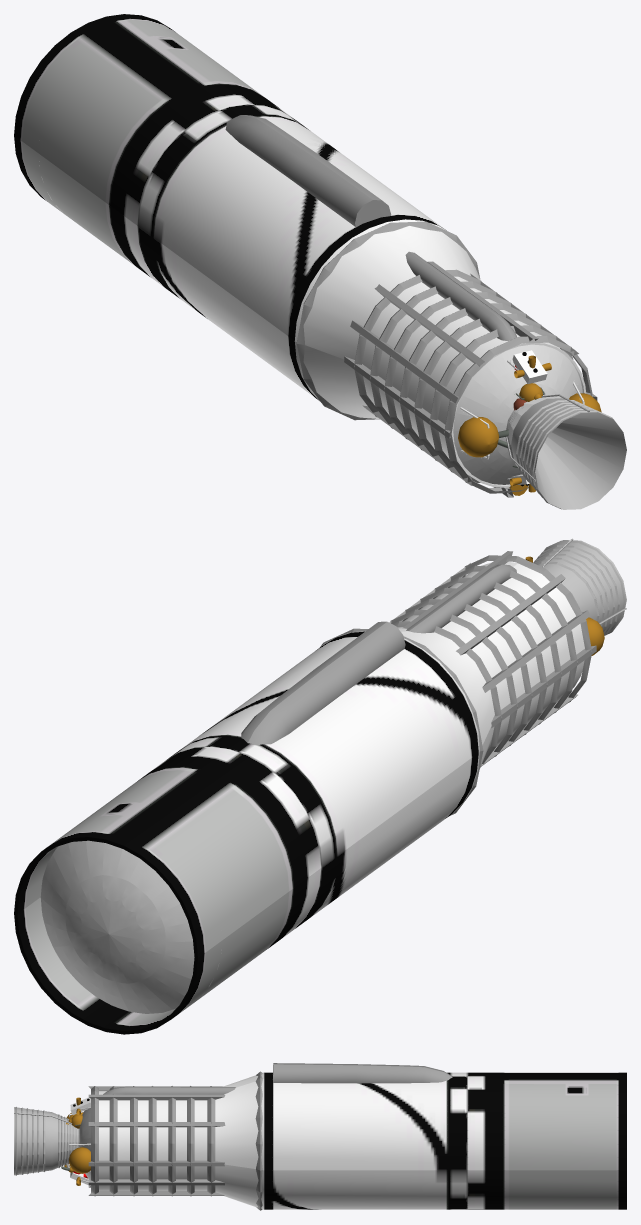
The model's file is cvelagena.obj.
3 renders of one model, top to bottom at view 1: azimuth 30°, elevation 25°; view 2: azimuth 150°, elevation 25°; view 3: azimuth 270°, elevation 25°, orthographic. The views are drawn at different scales.
Visible parts, largest first — view 1: group70, group72, group69, group10, group0, group108, group71, group110, group89, group9, group90, group91 (+10 smaller); view 2: group70, group5, group69, group72, group108, group9, group110, group71, group90, group104, group91, group103 (+7 smaller); view 3: group70, group69, group72, group108, group71, group9, group110, group101, group97, group92, group89, group91 (+10 smaller).
Part boxes in pixels (x1=…): group70: x1=14, y1=14, x2=446, y2=340; group72: x1=295, y1=219, x2=586, y2=431; group69: x1=14, y1=135, x2=319, y2=400; group10: x1=535, y1=412, x2=626, y2=509; group0: x1=453, y1=344, x2=582, y2=484; group108: x1=225, y1=115, x2=391, y2=226; group71: x1=294, y1=341, x2=510, y2=487; group110: x1=405, y1=251, x2=516, y2=340; group89: x1=296, y1=221, x2=480, y2=420; group9: x1=508, y1=398, x2=597, y2=489; group90: x1=444, y1=335, x2=592, y2=493; group91: x1=429, y1=325, x2=573, y2=482; group70: x1=14, y1=631, x2=478, y2=957; group5: x1=40, y1=840, x2=221, y2=1013; group69: x1=14, y1=753, x2=478, y2=1034; group72: x1=321, y1=561, x2=584, y2=752; group108: x1=241, y1=621, x2=405, y2=744; group9: x1=535, y1=540, x2=626, y2=634; group110: x1=406, y1=564, x2=516, y2=633; group71: x1=450, y1=660, x2=584, y2=815; group90: x1=451, y1=555, x2=592, y2=702; group104: x1=403, y1=599, x2=532, y2=746; group91: x1=435, y1=565, x2=577, y2=713; group103: x1=405, y1=588, x2=547, y2=734; group70: x1=264, y1=1072, x2=626, y2=1170; group69: x1=264, y1=1170, x2=626, y2=1209; group72: x1=99, y1=1072, x2=264, y2=1170; group108: x1=273, y1=1063, x2=452, y2=1083; group71: x1=99, y1=1164, x2=264, y2=1209; group9: x1=14, y1=1107, x2=77, y2=1175; group110: x1=103, y1=1086, x2=235, y2=1094; group101: x1=88, y1=1160, x2=224, y2=1166; group97: x1=88, y1=1094, x2=225, y2=1100; group92: x1=88, y1=1179, x2=224, y2=1185; group89: x1=255, y1=1071, x2=262, y2=1210; group91: x1=109, y1=1086, x2=117, y2=1196.
Size of the model in its own units: 1.53 by 1.67 by 6.74.
Materials: 14 (3 with a texture image).
